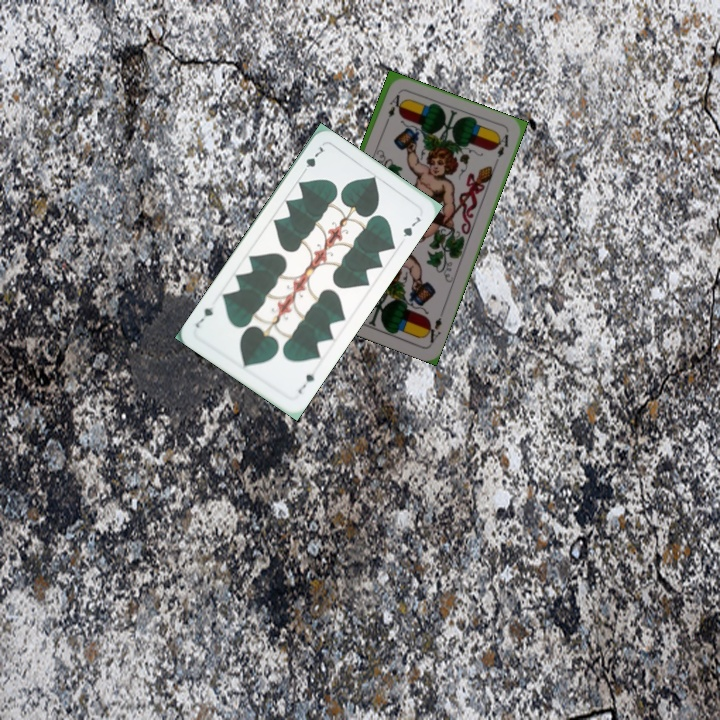EA: (421, 307, 446, 346), (380, 90, 402, 128)
G7: (297, 142, 327, 177), (294, 369, 317, 396)
